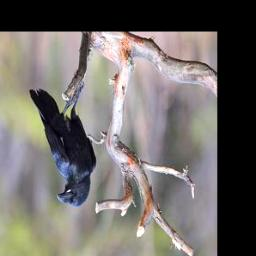Crow: (27, 84, 97, 209)
